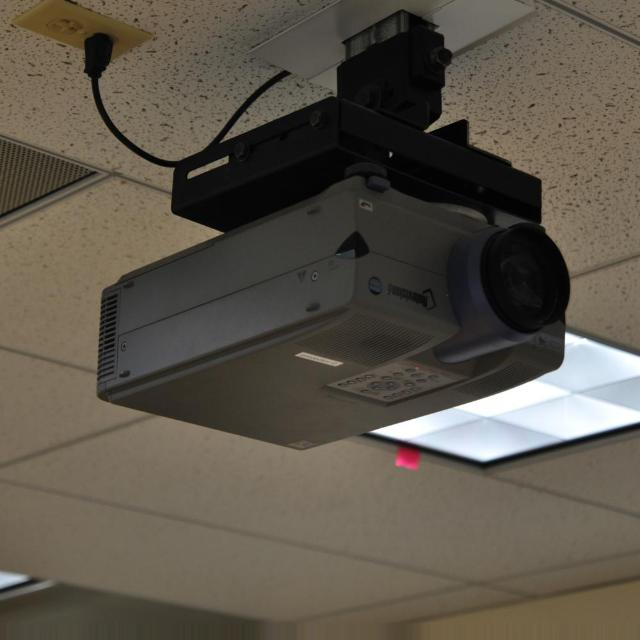Projector: (95, 162, 570, 450)
